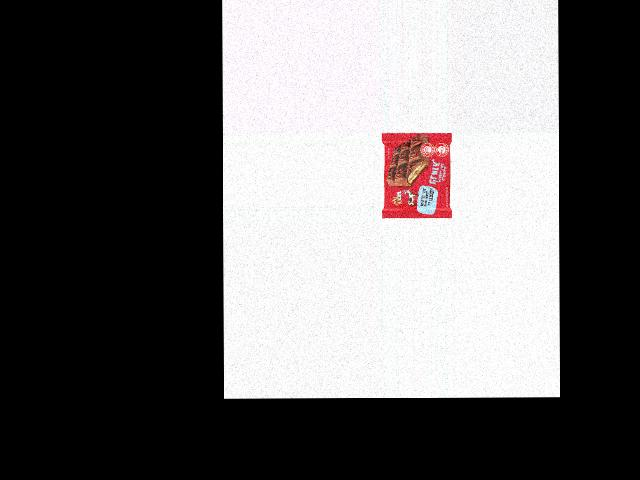chocolate: (382, 133, 452, 215)
